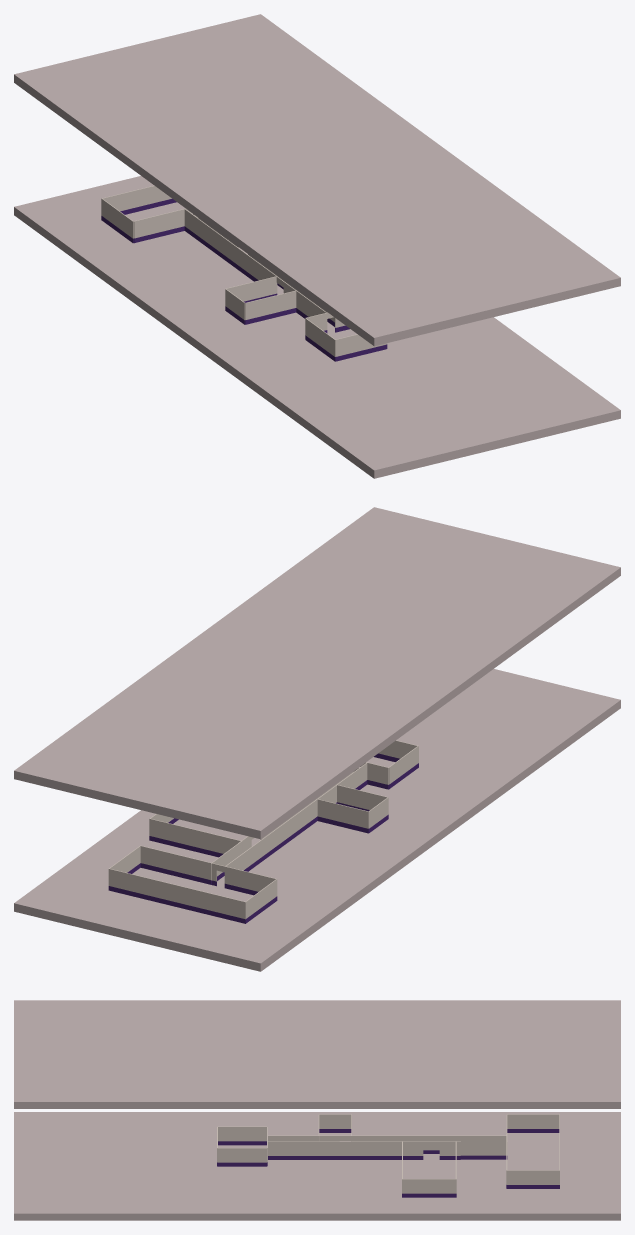
File: level map FMP 2nd date  6th march .fbx
3 views of the same model, one above another, from view 1: azimuth 30°, elevation 25°; view 2: azimuth 150°, elevation 25°; view 3: azimuth 270°, elevation 25° (orthographic). The views are drawn at different scales.
Parts seen in each view (by area): view 1: pCube58, pCube51, polySurface12, polySurface20, polySurface8, polySurface19, polySurface1, polySurface9, polySurface21, polySurface3; view 2: pCube58, pCube51, polySurface20, polySurface12, polySurface14, polySurface22, polySurface9, polySurface19, polySurface8, polySurface21, polySurface3; view 3: pCube58, pCube51, polySurface6, polySurface12, polySurface23, polySurface15, polySurface21, polySurface3, polySurface2, polySurface17, polySurface10, polySurface16 (+2 smaller).
Boxes of the visible parts, <box> form: pCube58: <box>14,14,620,346</box>; pCube51: <box>14,176,620,478</box>; polySurface12: <box>184,209,276,281</box>; polySurface20: <box>102,185,176,214</box>; polySurface8: <box>245,290,296,324</box>; polySurface19: <box>133,209,184,243</box>; polySurface1: <box>335,334,386,361</box>; polySurface9: <box>226,276,277,302</box>; polySurface21: <box>101,198,133,243</box>; polySurface3: <box>305,318,335,361</box>; pCube58: <box>14,507,620,839</box>; pCube51: <box>14,669,620,971</box>; polySurface20: <box>108,868,244,923</box>; polySurface12: <box>225,799,317,871</box>; polySurface14: <box>149,818,242,857</box>; polySurface22: <box>140,845,224,886</box>; polySurface9: <box>317,799,368,833</box>; polySurface19: <box>224,866,275,895</box>; polySurface8: <box>336,784,387,811</box>; polySurface21: <box>245,879,277,923</box>; polySurface3: <box>389,746,418,789</box>; pCube58: <box>14,1000,620,1108</box>; pCube51: <box>14,1112,620,1220</box>; polySurface6: <box>268,1141,402,1159</box>; polySurface12: <box>351,1135,506,1153</box>; polySurface23: <box>506,1170,559,1188</box>; polySurface15: <box>403,1179,455,1197</box>; polySurface21: <box>507,1114,559,1132</box>; polySurface3: <box>217,1126,266,1145</box>; polySurface2: <box>217,1148,266,1166</box>; polySurface17: <box>460,1141,507,1159</box>; polySurface10: <box>319,1114,351,1132</box>; polySurface16: <box>403,1141,439,1159</box>.
Size of the model in its own units: 103670 by 56541 by 262021.
